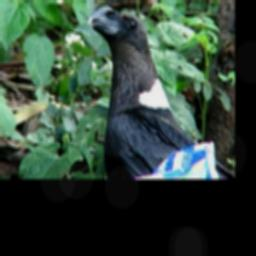Crow: (85, 6, 207, 178)
